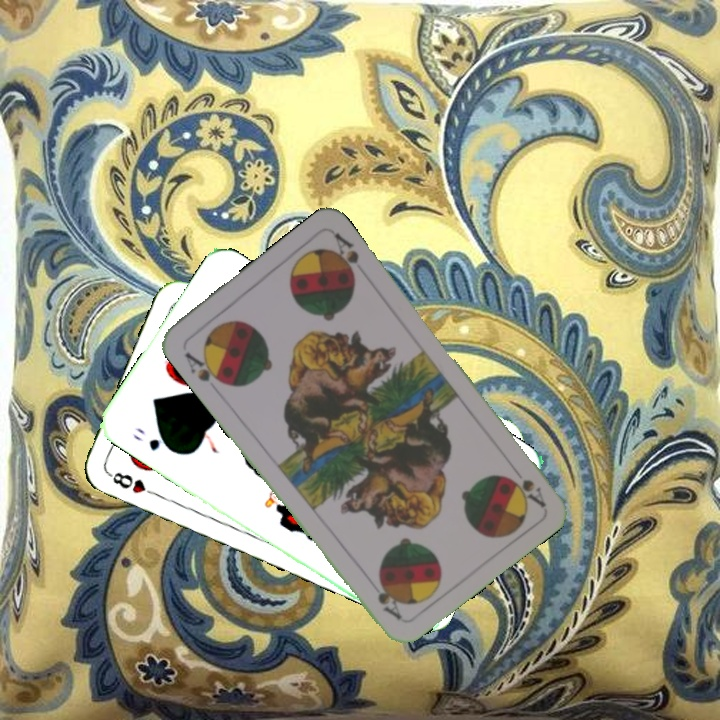GO: (130, 423, 177, 455)
H8: (104, 468, 161, 499)
SA: (504, 459, 548, 510), (180, 348, 230, 388)
